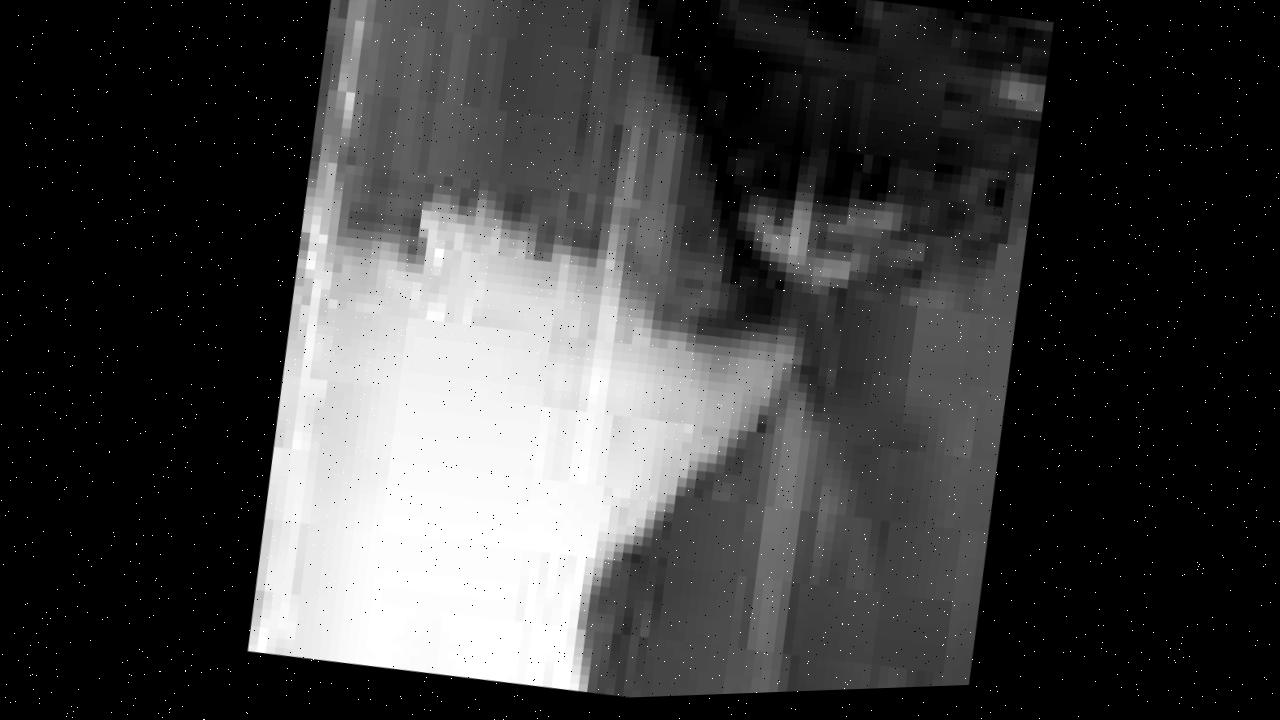drinks Stains: (232, 149, 749, 713)
